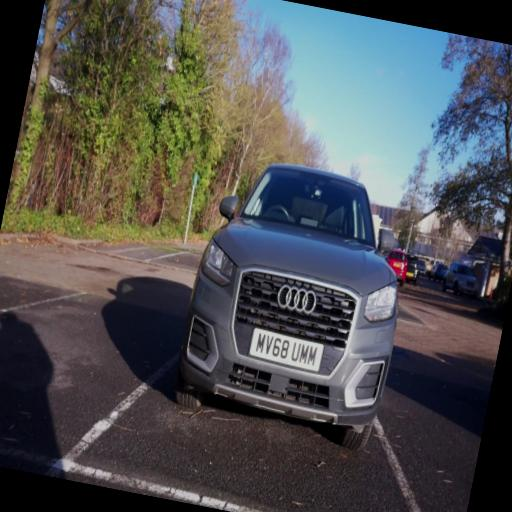numberplates: (250, 328, 323, 372), (394, 263, 402, 269), (407, 272, 413, 277)
